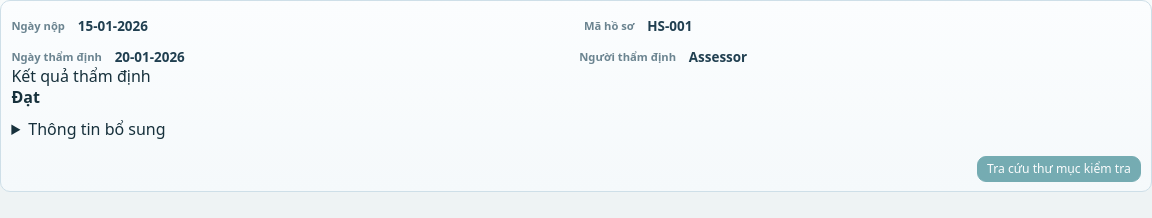
Test: registration presentation preserves existing editor owners › Enter on the application Cancel button never submits a mutation
Double-click the button with aria-label "Sửa Mã hồ sơ" at (670, 26), box [647, 17, 692, 35]
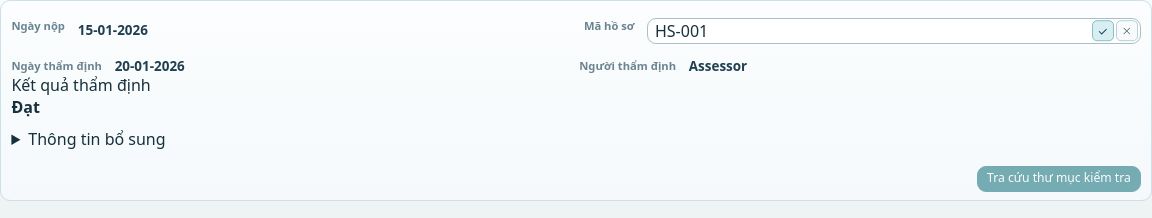
Replace the text in the field named "Mã hồ sơ" with "not submitted". click: (894, 31)
box: [647, 18, 1141, 44]
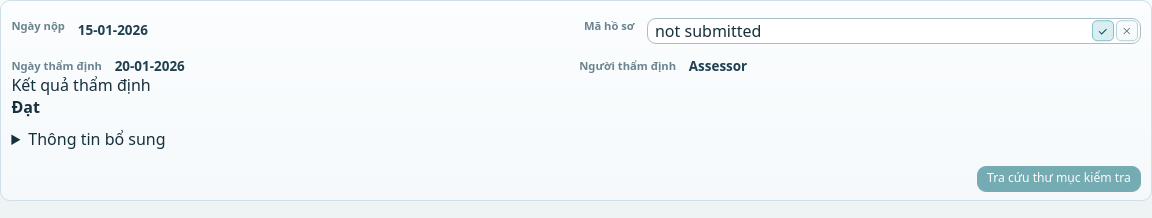
Press Enter in the button named "Hủy sửa Mã hồ sơ", box [1116, 20, 1138, 42]
Click the button named "Hủy sửa Mã hồ sơ". click: (1127, 31)
box: [1116, 20, 1138, 42]
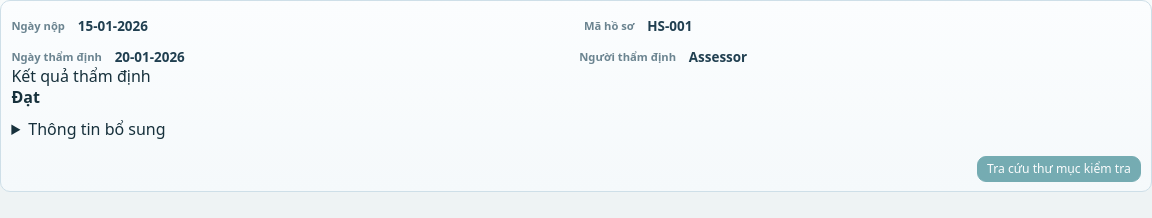
Check: the button with aria-label "Sửa Mã hồ sơ" reads "HS-001", box [647, 17, 692, 35]
